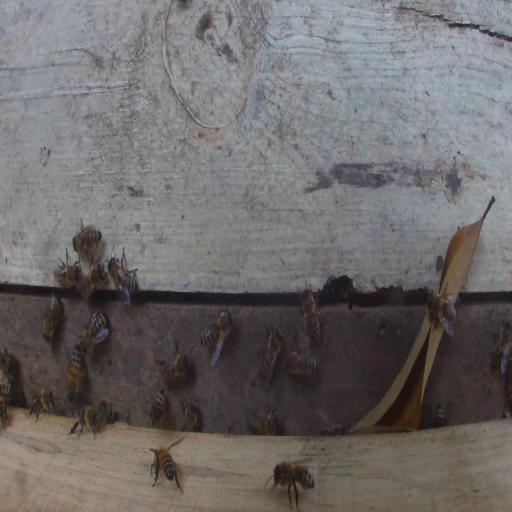nonpollenbee: (266, 459, 316, 510), (200, 308, 235, 368), (107, 246, 138, 305), (426, 288, 459, 338), (257, 323, 283, 385), (72, 218, 103, 263), (80, 309, 109, 355), (300, 283, 321, 343), (69, 404, 104, 440), (284, 349, 318, 382), (159, 348, 191, 383), (55, 248, 82, 289), (27, 386, 56, 422), (66, 345, 85, 399), (491, 320, 511, 369), (43, 294, 63, 343), (81, 263, 109, 298), (148, 389, 167, 428), (249, 410, 278, 435), (180, 396, 200, 432), (155, 447, 174, 481), (98, 397, 117, 424), (0, 382, 12, 424), (1, 346, 17, 377), (318, 422, 345, 435), (433, 403, 447, 428), (0, 381, 12, 399)
